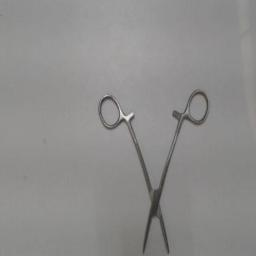Mayo Needle Holder: (95, 85, 213, 255)
